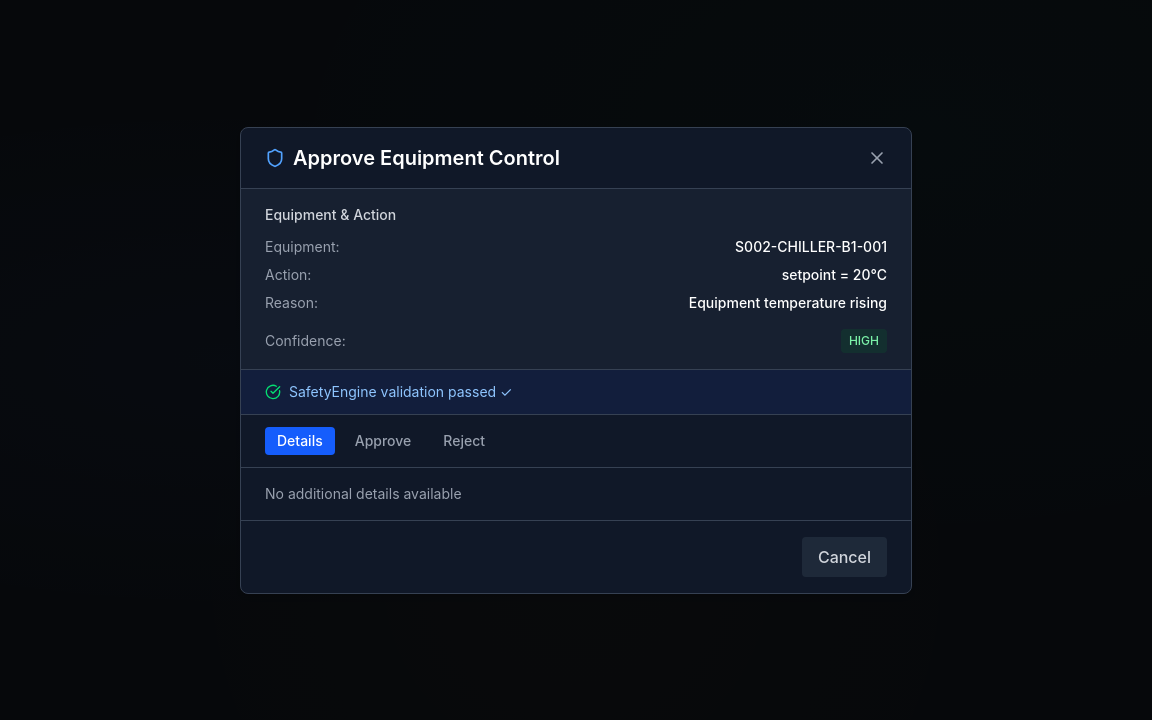
Test: ApprovalDialog › should require approver name for approval
This screenshot has width=1152, height=720.
Navigate to approve tab first
Step 1. Click the button "Approve" → x=383, y=440, box [343, 426, 423, 454]
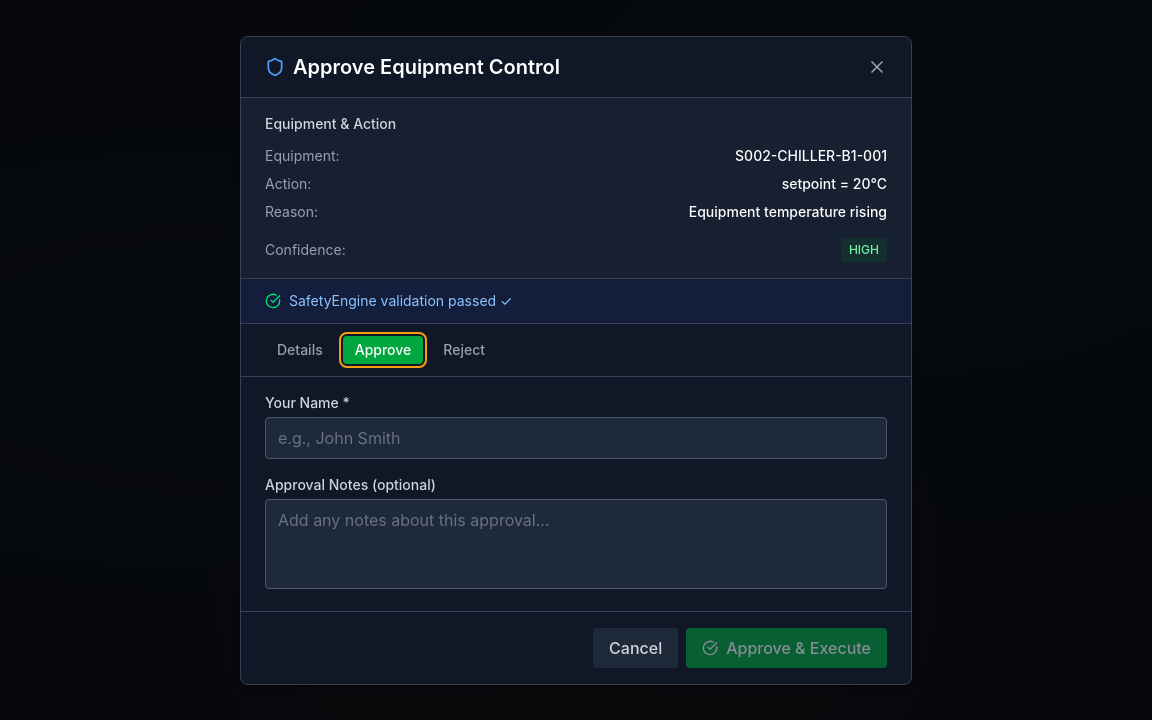
Expected: the button "Approve & Execute" is disabled, [686, 628, 887, 668]
Step 2. Type "John Smith" into the field with placeholder "e.g., John Smith" → x=576, y=438, box [265, 416, 887, 458]
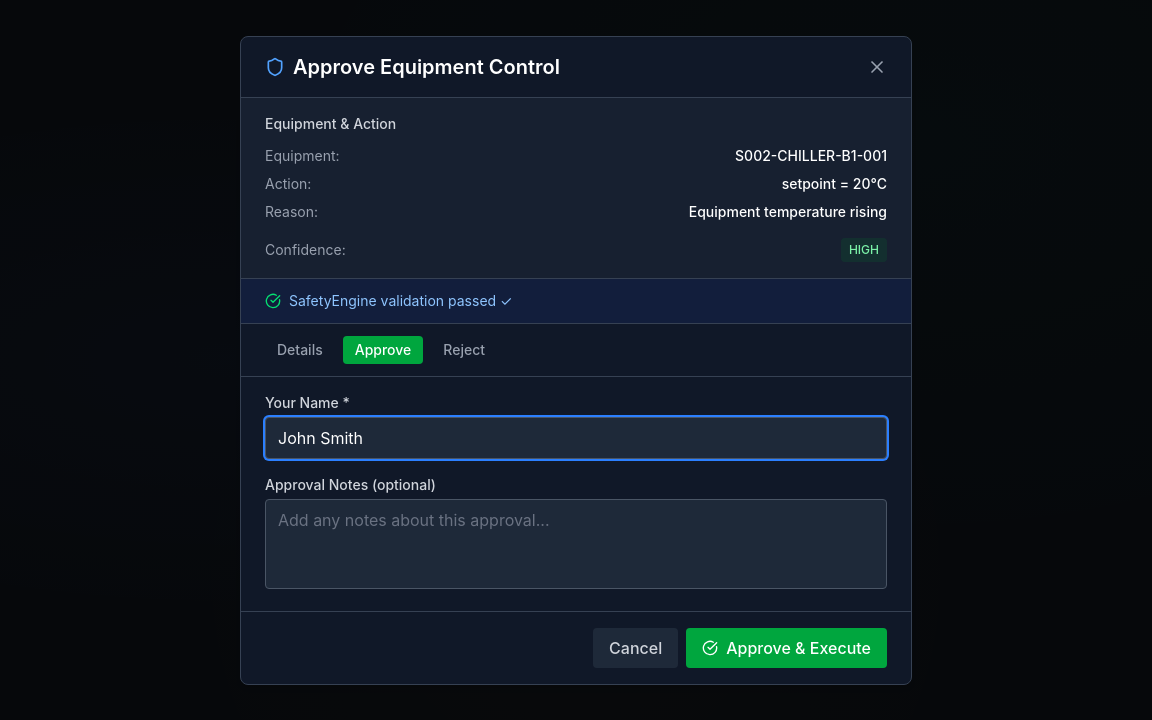
Expected: the button "Approve & Execute" is enabled, [686, 628, 887, 668]
